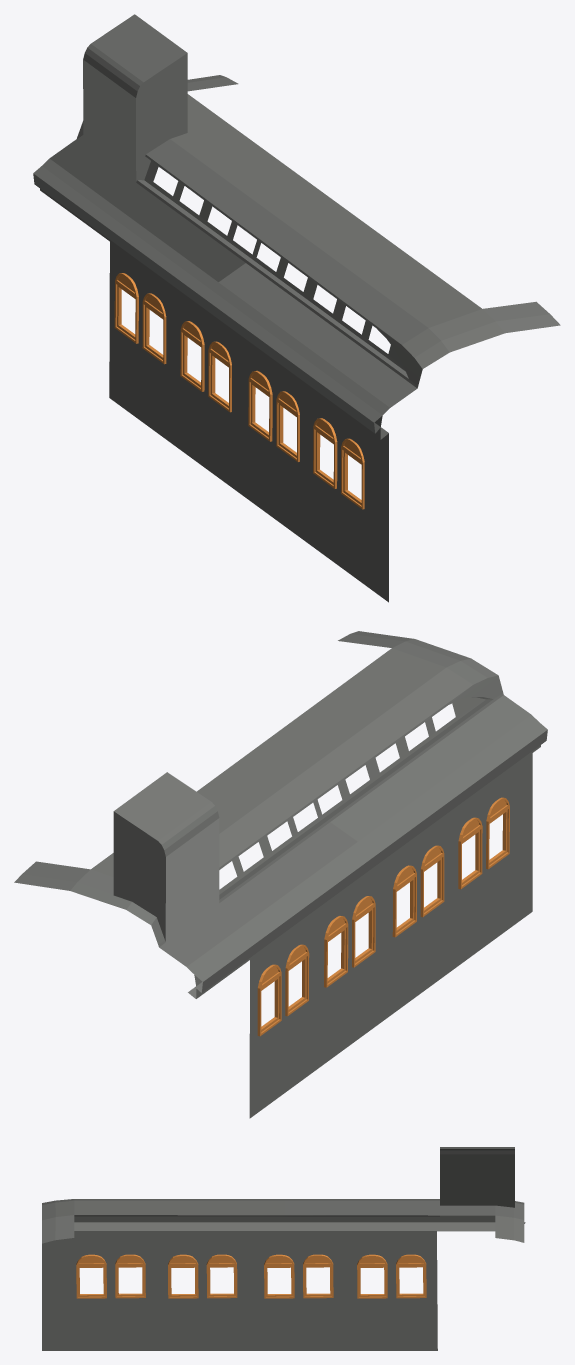
Rendered from trainleftwall.fbx.
The picture shows the model from 3 angles, top to bottom: view 1: azimuth 30°, elevation 25°; view 2: azimuth 150°, elevation 25°; view 3: azimuth 270°, elevation 25°; orthographic projection. The views are drawn at different scales.
Visible parts, largest first — view 1: leftwall0, leftwall.1-1, leftwall.4-1, leftwall.2-1, leftwall.3-1, leftwall.1-2, leftwall.3-2, leftwall.2-2, leftwall.4-2; view 2: leftwall0, leftwall.1-1, leftwall.2-1, leftwall.4-1, leftwall.3-1, leftwall.1-2, leftwall.3-2, leftwall.2-2, leftwall.4-2; view 3: leftwall0, leftwall.1-1, leftwall.4-1, leftwall.3-1, leftwall.2-1, leftwall.1-2, leftwall.3-2, leftwall.2-2, leftwall.4-2.
Boxes of the visible parts, bbox=[...] form: leftwall0: bbox=[33, 14, 560, 439]; leftwall.1-1: bbox=[305, 385, 388, 602]; leftwall.4-1: bbox=[109, 242, 174, 444]; leftwall.2-1: bbox=[240, 337, 305, 541]; leftwall.3-1: bbox=[174, 289, 240, 493]; leftwall.1-2: bbox=[308, 403, 369, 524]; leftwall.3-2: bbox=[177, 311, 236, 432]; leftwall.2-2: bbox=[245, 356, 302, 471]; leftwall.4-2: bbox=[114, 265, 169, 374]; leftwall0: bbox=[14, 631, 547, 998]; leftwall.1-1: bbox=[448, 753, 532, 972]; leftwall.2-1: bbox=[382, 815, 448, 1021]; leftwall.4-1: bbox=[249, 912, 315, 1118]; leftwall.3-1: bbox=[314, 863, 382, 1070]; leftwall.1-2: bbox=[451, 791, 512, 901]; leftwall.3-2: bbox=[318, 886, 378, 995]; leftwall.2-2: bbox=[386, 834, 444, 946]; leftwall.4-2: bbox=[254, 937, 310, 1044]; leftwall0: bbox=[42, 1147, 525, 1243]; leftwall.1-1: bbox=[42, 1231, 159, 1350]; leftwall.4-1: bbox=[346, 1231, 437, 1350]; leftwall.3-1: bbox=[251, 1231, 346, 1350]; leftwall.2-1: bbox=[159, 1231, 252, 1350]; leftwall.1-2: bbox=[70, 1245, 155, 1314]; leftwall.3-2: bbox=[257, 1245, 341, 1311]; leftwall.2-2: bbox=[164, 1241, 245, 1310]; leftwall.4-2: bbox=[352, 1245, 430, 1314].
Size of the model in its own units: 309 by 512 by 1105.
